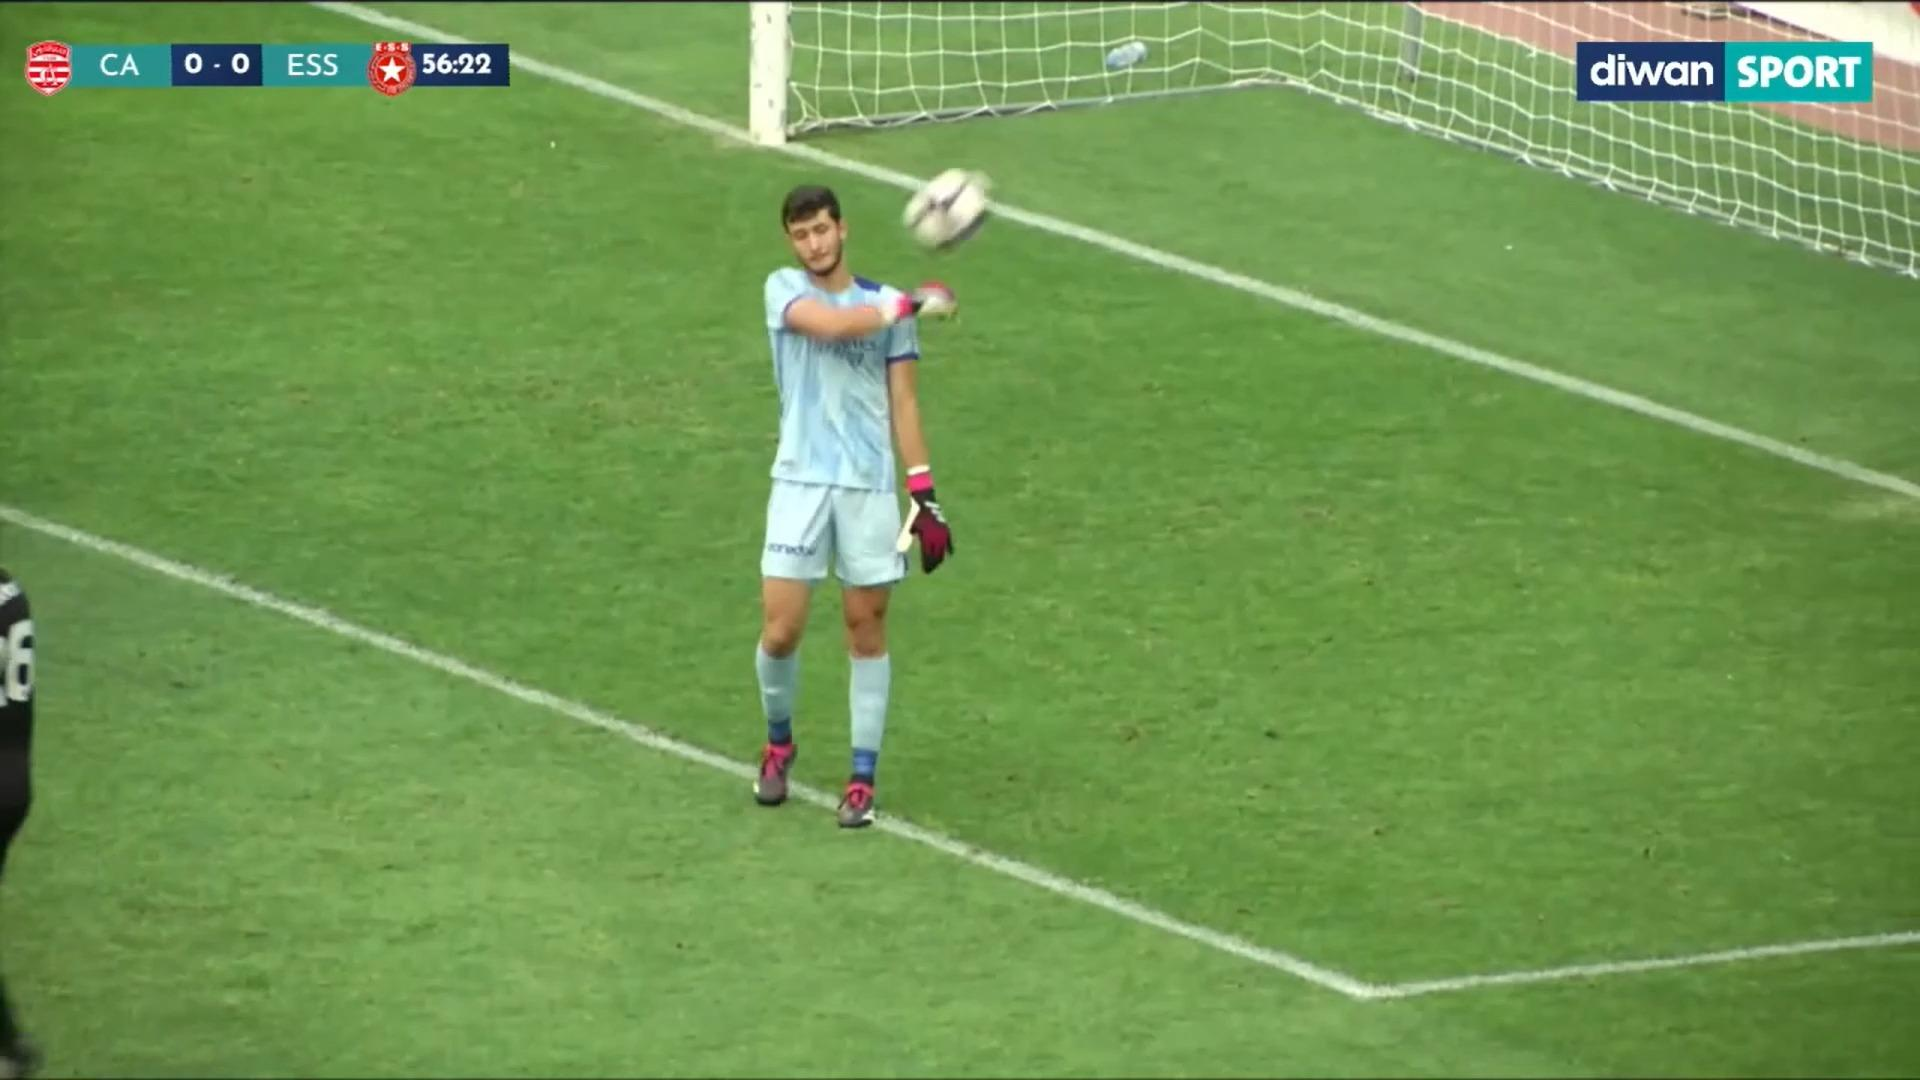ball: (893, 145, 1007, 262)
goalkeeper: (711, 166, 963, 844)
